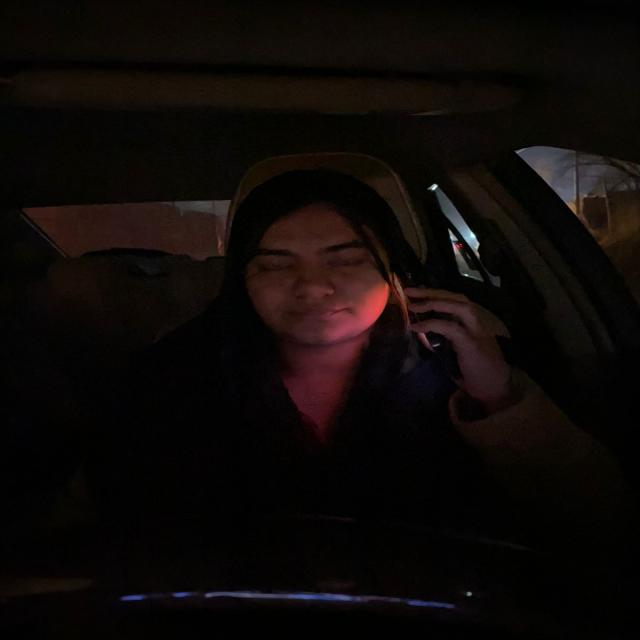mobile: (395, 268, 445, 356)
person: (238, 186, 388, 344)
